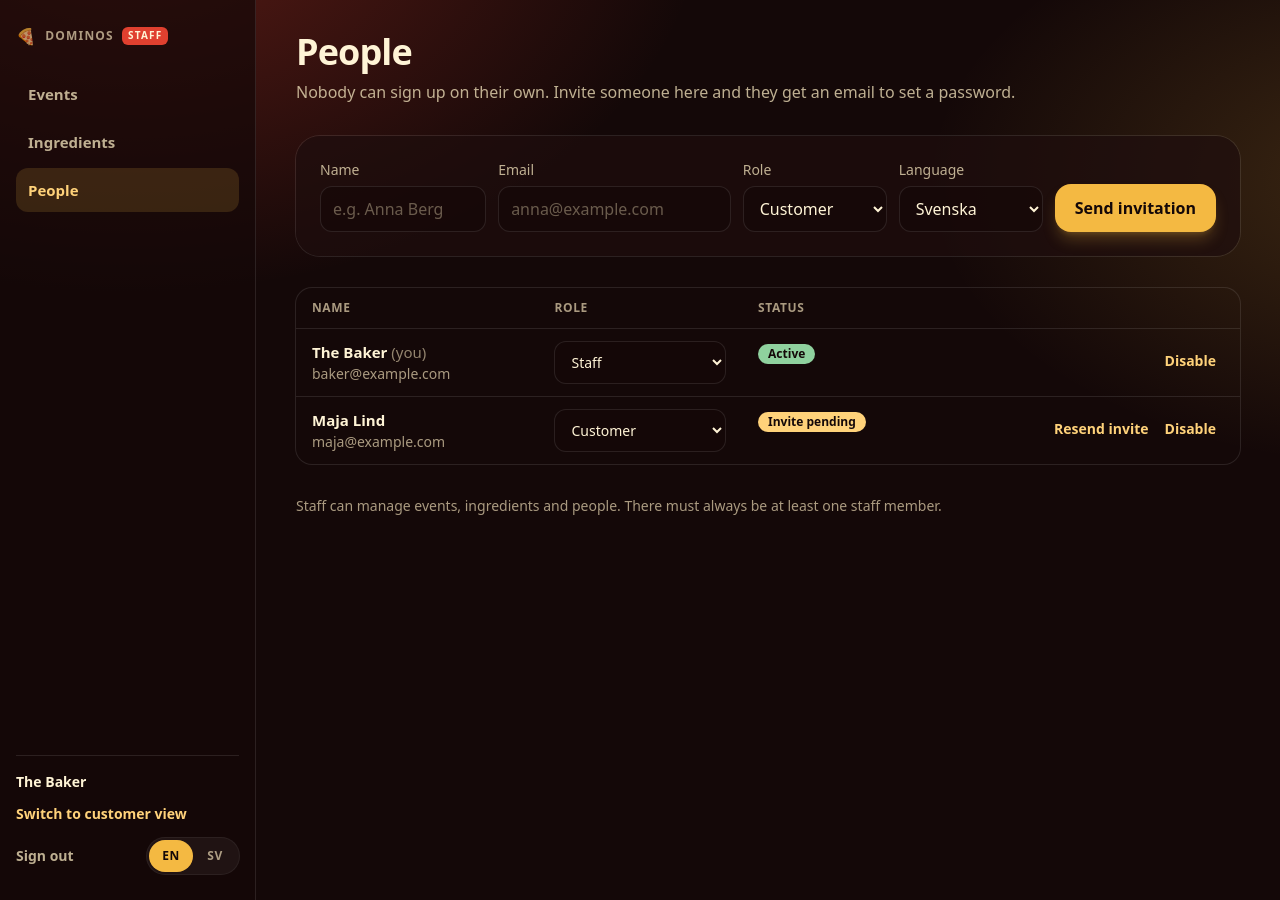
Test: the people page › explains that the last staff member cannot step down
Select "Customer" in the dropdown named "Role for The Baker" at x=640, y=362, box [554,341,726,384]
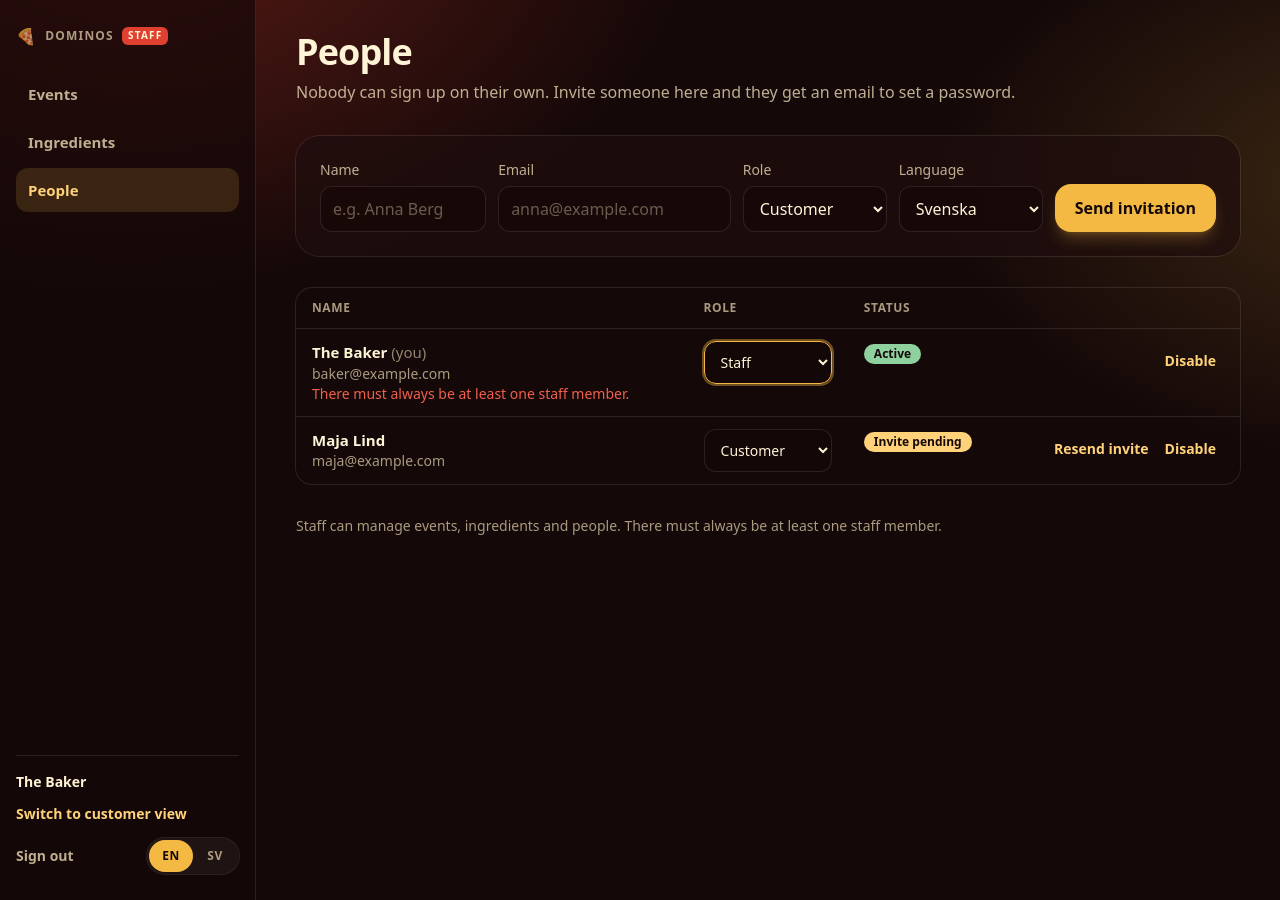
Check: the message shows "at least one staff member", box [312,384,629,402]
